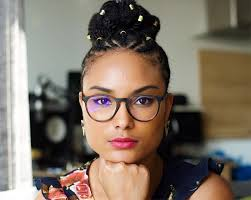g.y: (84, 93, 119, 124)
